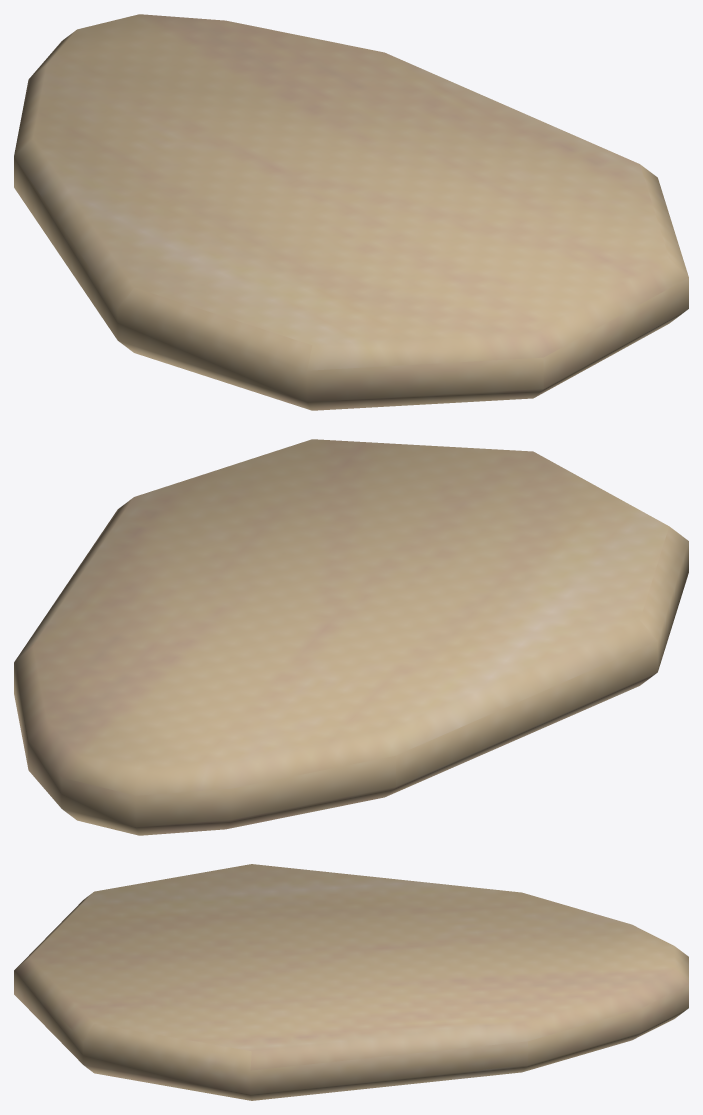
File: seed.fbx
The picture shows the model from 3 angles, top to bottom: view 1: azimuth 30°, elevation 25°; view 2: azimuth 150°, elevation 25°; view 3: azimuth 270°, elevation 25°; orthographic projection. The views are drawn at different scales.
Visible parts, largest first — view 1: Pumpkin Seed; view 2: Pumpkin Seed; view 3: Pumpkin Seed.
Boxes of the visible parts, box(x1,y1,x2,y2) form: Pumpkin Seed: box(14, 14, 688, 410); Pumpkin Seed: box(14, 439, 688, 835); Pumpkin Seed: box(14, 864, 688, 1100).
Size of the model in its own units: 183 by 21.16 by 260.
